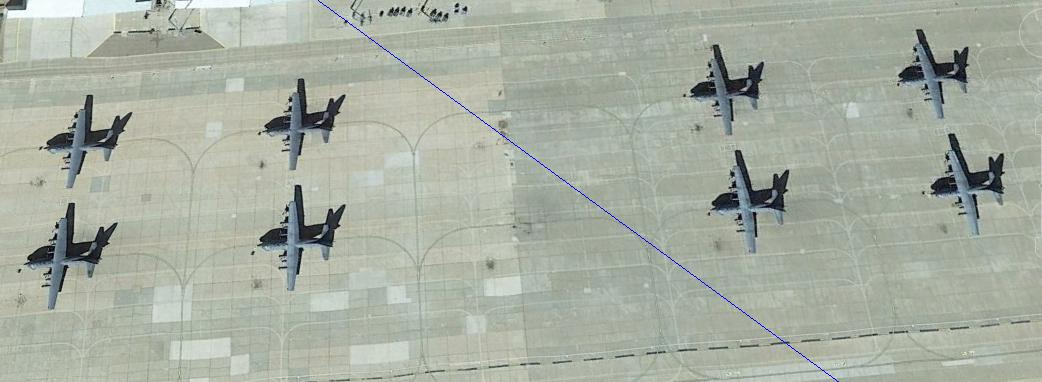C-130: (252, 186, 340, 294), (22, 204, 110, 311), (709, 157, 790, 258), (930, 139, 1010, 239), (41, 98, 125, 190), (262, 78, 340, 174), (686, 49, 765, 138), (895, 29, 969, 123)
